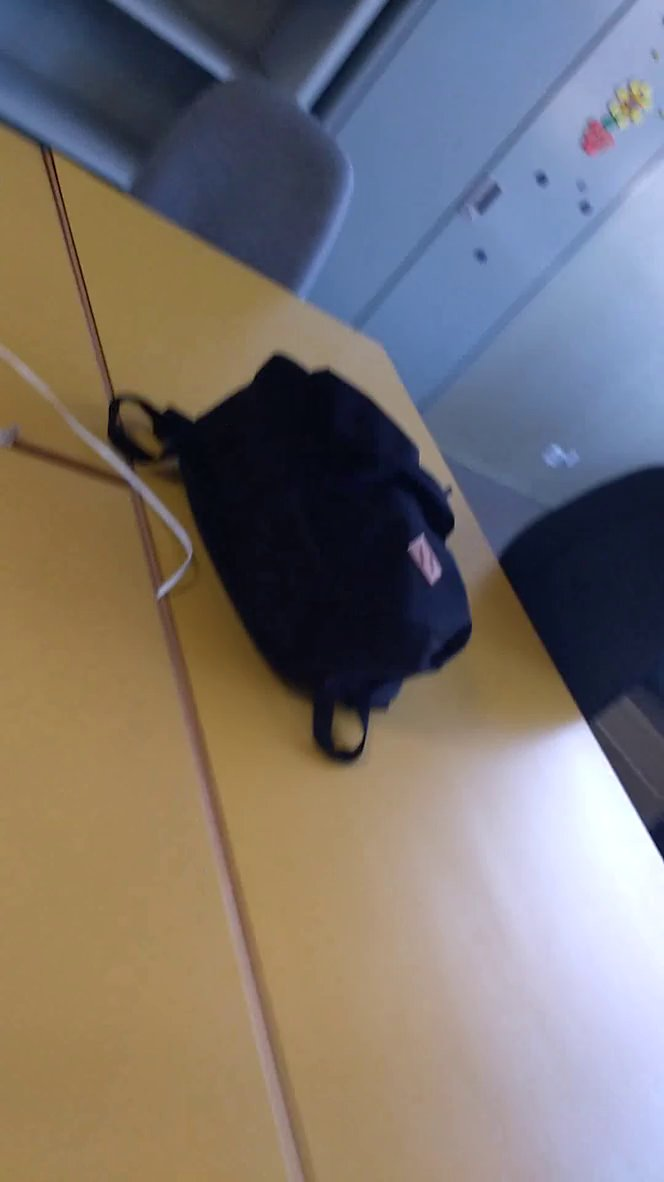bag: (103, 339, 481, 772)
chair: (124, 62, 368, 330)
